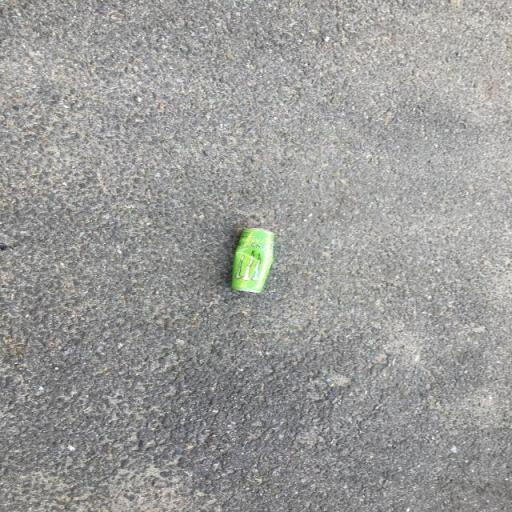metal: (188, 194, 292, 298)
